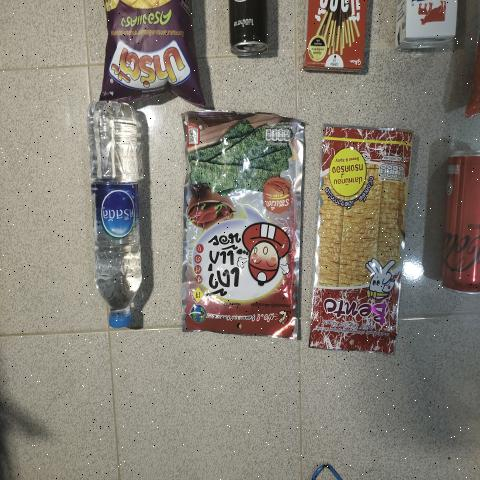bento_red: (325, 126, 402, 352)
coke_red: (439, 142, 480, 296)
crystal: (82, 93, 149, 345)
taokaenoi: (186, 118, 295, 334)
